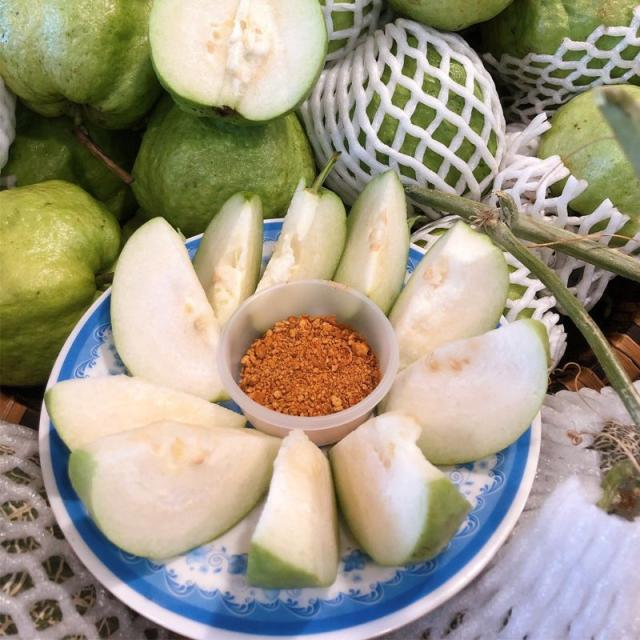oi: (69, 422, 280, 561), (381, 319, 549, 464), (329, 413, 471, 566), (110, 219, 226, 401), (389, 221, 509, 370), (49, 375, 246, 450), (246, 431, 339, 588), (333, 170, 410, 314), (256, 174, 346, 291), (192, 193, 262, 331)
